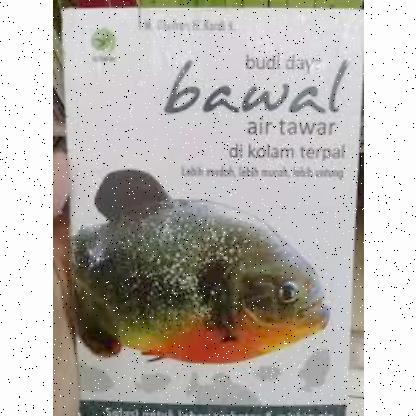ikan-pacu: (76, 197, 336, 358)
